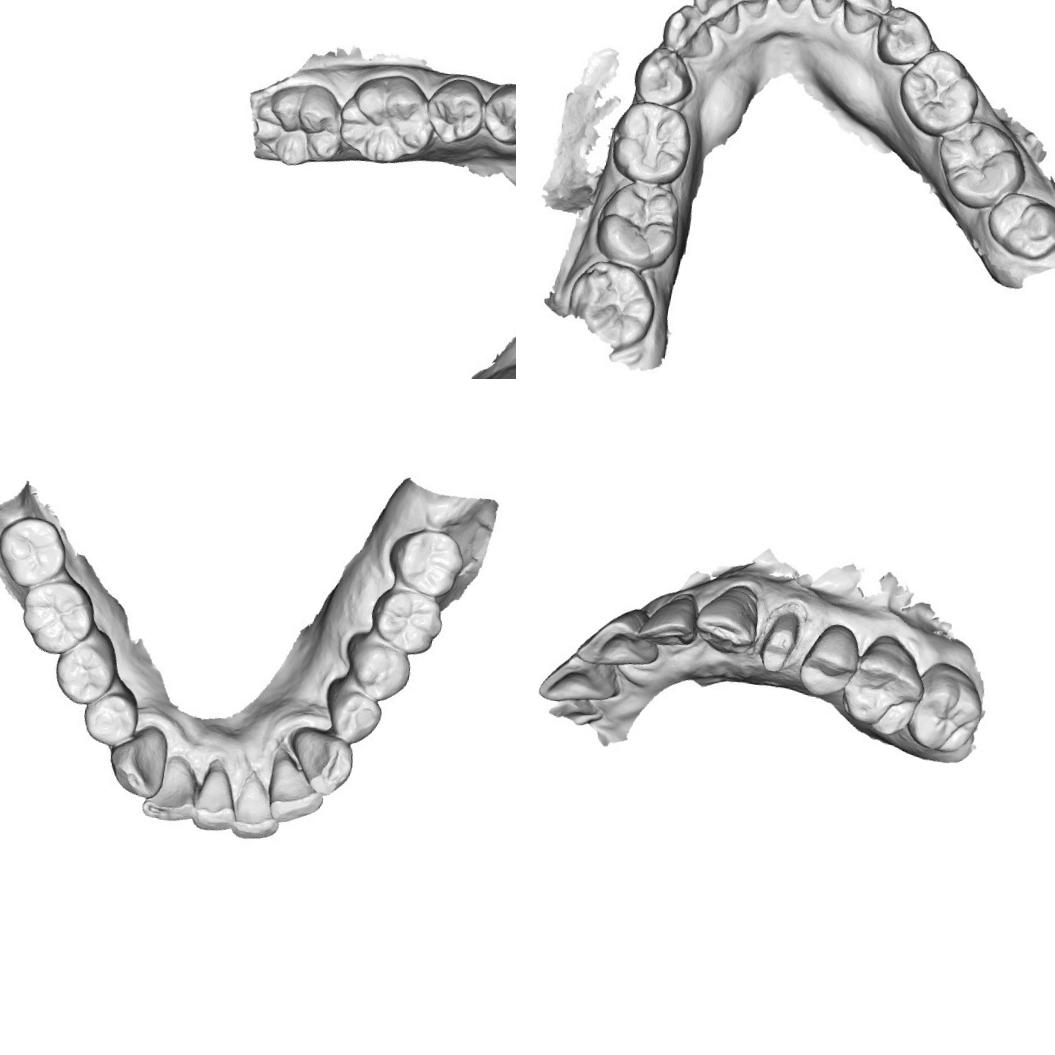canine: (694, 578, 762, 662), (286, 721, 357, 795), (108, 722, 170, 793), (657, 0, 720, 63), (837, 0, 895, 40)
crown: (758, 603, 805, 677)
incisor: (536, 649, 624, 708), (577, 611, 660, 670), (230, 762, 285, 846), (139, 762, 204, 829), (266, 746, 322, 818), (638, 591, 704, 652), (192, 762, 244, 834), (688, 0, 751, 37), (800, 0, 855, 24), (721, 0, 773, 21), (761, 0, 816, 17)
molar: (332, 66, 441, 172), (560, 254, 663, 356), (928, 115, 1030, 217), (248, 75, 348, 174), (892, 44, 986, 144), (590, 176, 686, 272), (845, 631, 927, 734), (606, 98, 697, 189), (908, 656, 986, 754), (980, 186, 1055, 265), (389, 524, 468, 598), (20, 576, 91, 655), (372, 585, 444, 655), (0, 513, 67, 585)
premolar: (420, 73, 488, 150), (872, 1, 941, 72), (629, 42, 698, 109), (802, 627, 864, 700), (53, 638, 114, 702), (75, 690, 140, 746), (348, 642, 410, 700), (325, 688, 384, 745), (478, 77, 516, 150)
